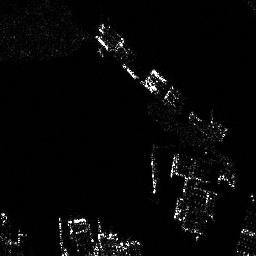ship: (150, 146, 159, 195)
